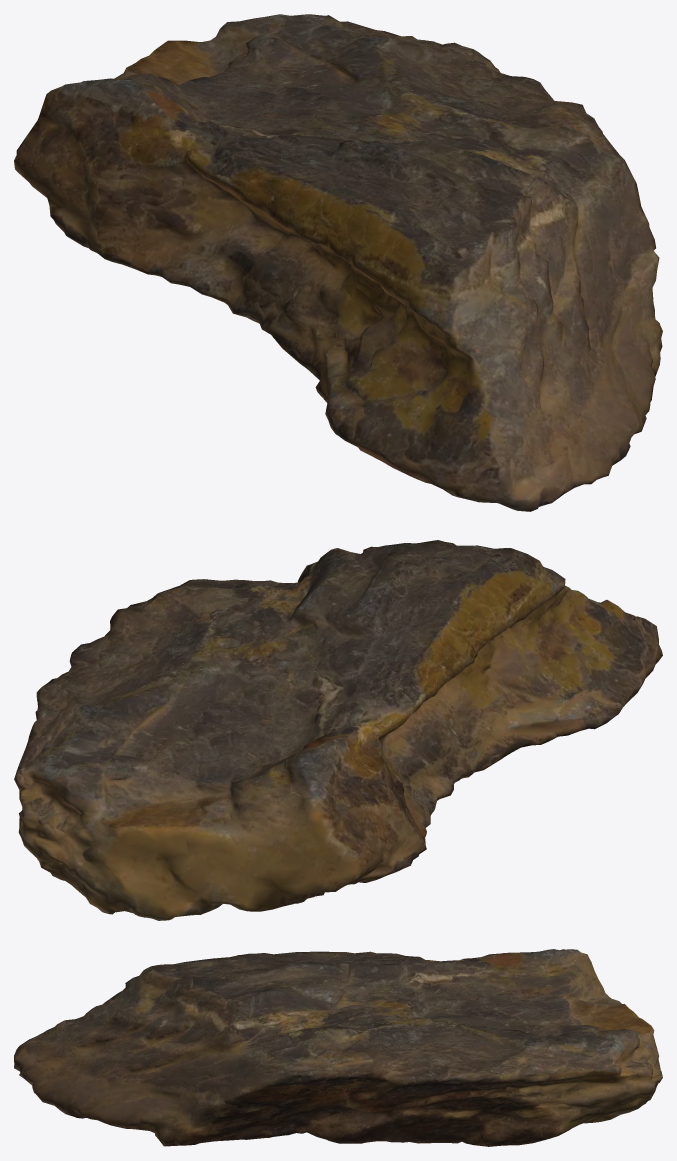
File: rock_09.glb
The picture shows the model from 3 angles, top to bottom: view 1: azimuth 30°, elevation 25°; view 2: azimuth 150°, elevation 25°; view 3: azimuth 270°, elevation 25°; orthographic projection. The views are drawn at different scales.
Parts seen in each view (by area): view 1: rock_09_LOD0; view 2: rock_09_LOD0; view 3: rock_09_LOD0.
Part boxes in pixels (x1=…): rock_09_LOD0: x1=14, y1=14, x2=662, y2=511; rock_09_LOD0: x1=14, y1=540, x2=662, y2=920; rock_09_LOD0: x1=14, y1=949, x2=662, y2=1146.
Bounding box in the file's own units: 0.074 × 0.0329 × 0.1446.
Materials: 1 (1 with a texture image).
